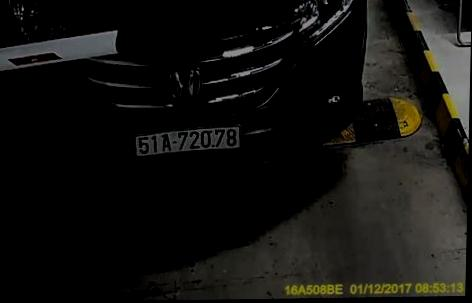License_Plate: (132, 125, 242, 154)
